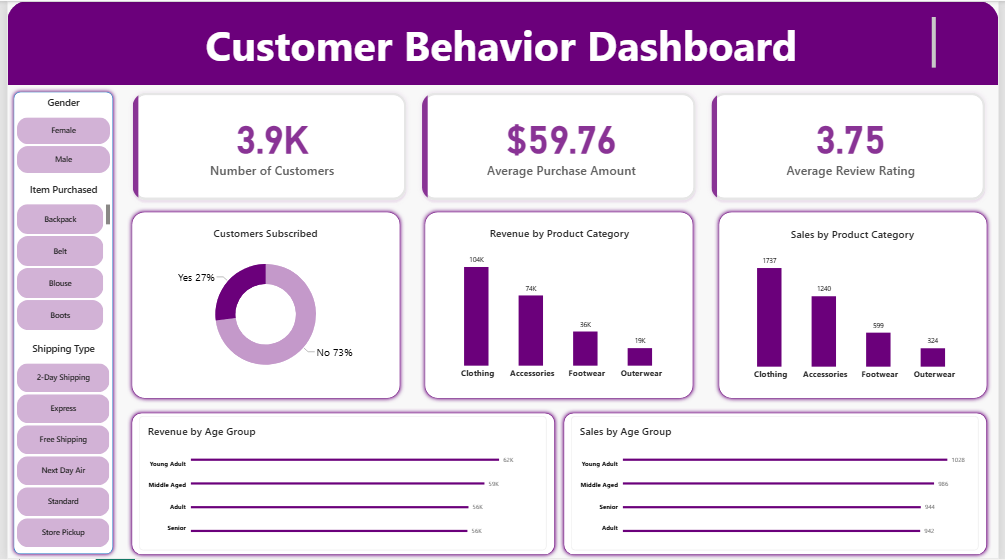

Layout of this report page (visuals, bound fields, positions):
{"tool":"powerbi","page":{"name":"Page 1","canvas":[1920,1080],"ordinal":0},"visuals":[{"type":"cardVisual","fields":{"Data":["measures_table.number_of_customers","measures_table.average_purchase_amount","measures_table.average_review_rating"]},"box":[232,167,1674,230.7],"z":0,"group":"g1"},{"type":"shape","box":[0,0,1919.3,162.7],"z":1000,"group":"g1"},{"type":"textbox","box":[123.6,30.4,1674.2,101.9],"z":2000,"group":"g1"},{"type":"shape","box":[232,398.7,537.8,379.5],"z":3000,"group":"g1"},{"type":"donutChart","title":"Customers Subscribed","fields":{"Category":["public shopping_behavior.subscription_status"],"Y":["CountNonNull(public shopping_behavior.customer_id)"]},"box":[273.3,420.3,455.4,331.8],"z":4000,"group":"g1"},{"type":"shape","box":[800.2,398.7,537.8,379.5],"z":5000,"group":"g1"},{"type":"shape","box":[1368.4,398.7,537.8,379.5],"z":6000,"group":"g1"},{"type":"clusteredColumnChart","title":"Revenue by Product Category","fields":{"Category":["public shopping_behavior.category"],"Y":["Sum(public shopping_behavior.purchase_amount)","Sum(public shopping_behavior.purchase_amount)"]},"box":[826.3,420.3,485.8,331.8],"z":7000,"group":"g1"},{"type":"clusteredColumnChart","title":"Sales by Product Category","fields":{"Category":["public shopping_behavior.category"],"Y":["CountNonNull(public shopping_behavior.customer_id)"]},"box":[1394.5,422.5,485.8,331.8],"z":8000,"group":"g1"},{"type":"shape","box":[4.3,167,210.4,913],"z":9000,"group":"g1"},{"type":"advancedSlicerVisual","title":"Gender","fields":{"Values":["public shopping_behavior.gender"]},"box":[19.5,184.3,180,149.6],"z":10000,"group":"g1"},{"type":"advancedSlicerVisual","title":"Item Purchased","fields":{"Values":["public shopping_behavior.item_purchased"]},"box":[19.5,352.4,180,288.4],"z":11000,"group":"g1"},{"type":"advancedSlicerVisual","title":"Shipping Type","fields":{"Values":["public shopping_behavior.shipping_type"]},"box":[19.4,660,180,402.6],"z":12000,"group":"g1"},{"type":"shape","box":[232,787.2,837.1,293],"z":13000,"group":"g1"},{"type":"clusteredBarChart","title":"Revenue by Age Group","fields":{"Category":["public shopping_behavior.age_group"],"Series":["public shopping_behavior.age_group"],"Y":["Sum(public shopping_behavior.purchase_amount)"]},"box":[255.9,802.4,789.4,260.2],"z":14000,"group":"g1"},{"type":"shape","box":[1069.2,787.2,837.1,293],"z":15000,"group":"g1"},{"type":"clusteredBarChart","title":"Sales by Age Group","fields":{"Category":["public shopping_behavior.age_group"],"Series":["public shopping_behavior.age_group"],"Y":["CountNonNull(public shopping_behavior.customer_id)"]},"box":[1090.8,802.4,789.4,260.2],"z":16000,"group":"g1"},{"type":"group","id":"g1","title":"Group 1","box":[0,0,1919.3,1080.2],"z":16001}]}

Visuals, with their boxes in screenshot pixels (x1, y1, x2, y2), scaled from the page's 1920x1080 canvas onto the 1005x560 screenshot:
cardVisual - measures_table.number_of_customers x measures_table.average_purchase_amount: box(121, 87, 998, 206)
shape: box(0, 0, 1004, 84)
textbox: box(65, 16, 941, 69)
shape: box(121, 207, 403, 404)
"Customers Subscribed" donutChart: box(143, 218, 381, 390)
shape: box(419, 207, 700, 404)
shape: box(716, 207, 998, 404)
"Revenue by Product Category" clusteredColumnChart: box(433, 218, 687, 390)
"Sales by Product Category" clusteredColumnChart: box(730, 219, 984, 391)
shape: box(2, 87, 112, 559)
"Gender" advancedSlicerVisual: box(10, 96, 104, 173)
"Item Purchased" advancedSlicerVisual: box(10, 183, 104, 332)
"Shipping Type" advancedSlicerVisual: box(10, 342, 104, 551)
shape: box(121, 408, 560, 559)
"Revenue by Age Group" clusteredBarChart: box(134, 416, 547, 551)
shape: box(560, 408, 998, 559)
"Sales by Age Group" clusteredBarChart: box(571, 416, 984, 551)
"Group 1" group: box(0, 0, 1004, 559)
